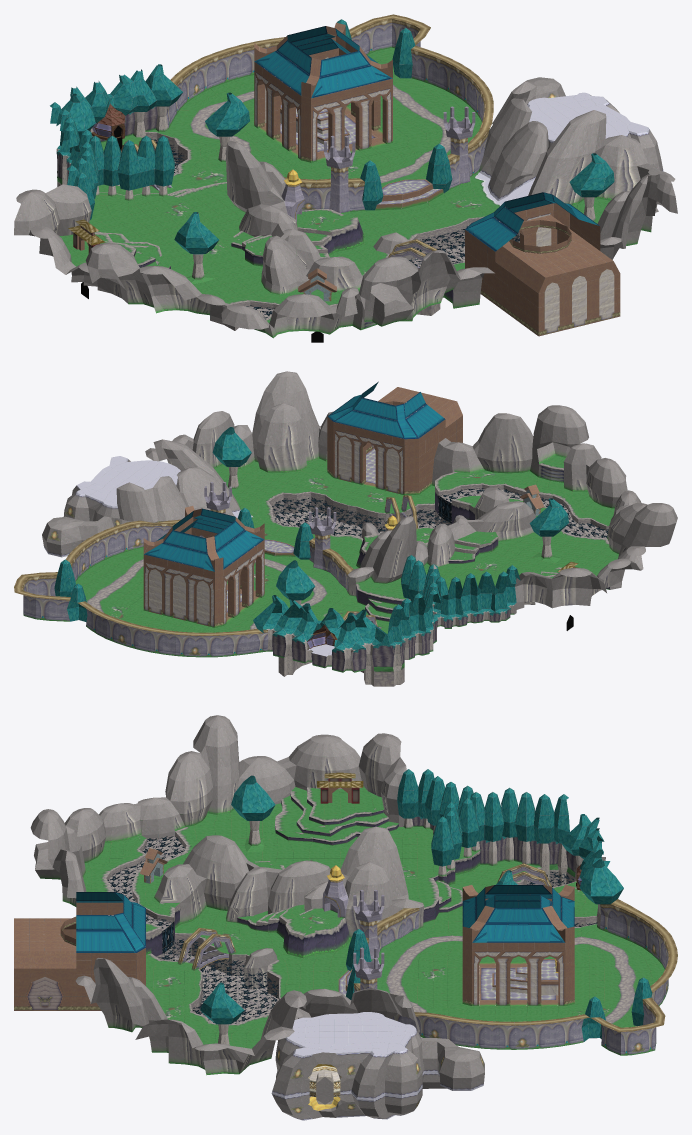
The model's file is MiddayGarden.fbx.
3 views of the same model, one above another, from view 1: azimuth 30°, elevation 25°; view 2: azimuth 150°, elevation 25°; view 3: azimuth 270°, elevation 25° (orthographic). The views are drawn at different scales.
Visible parts, largest first — view 1: Sector 95; view 2: Sector 95; view 3: Sector 95.
Boxes of the visible parts, x1,y1,x2,y2 form: Sector 95: [14, 14, 677, 342]; Sector 95: [14, 371, 677, 686]; Sector 95: [14, 715, 677, 1120].
Bounding box in the file's own units: 305 × 58.99 × 289.
1 material, 1 textured.
